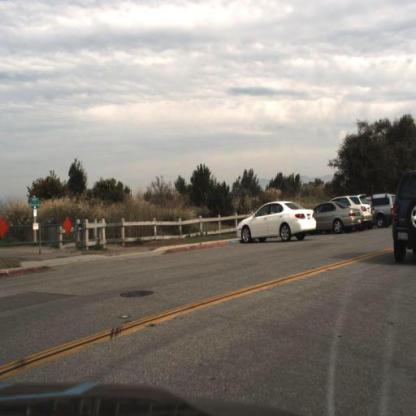car: (238, 198, 317, 242), (392, 163, 415, 273), (314, 202, 362, 238), (343, 188, 373, 228), (367, 189, 396, 229), (354, 188, 376, 234)
